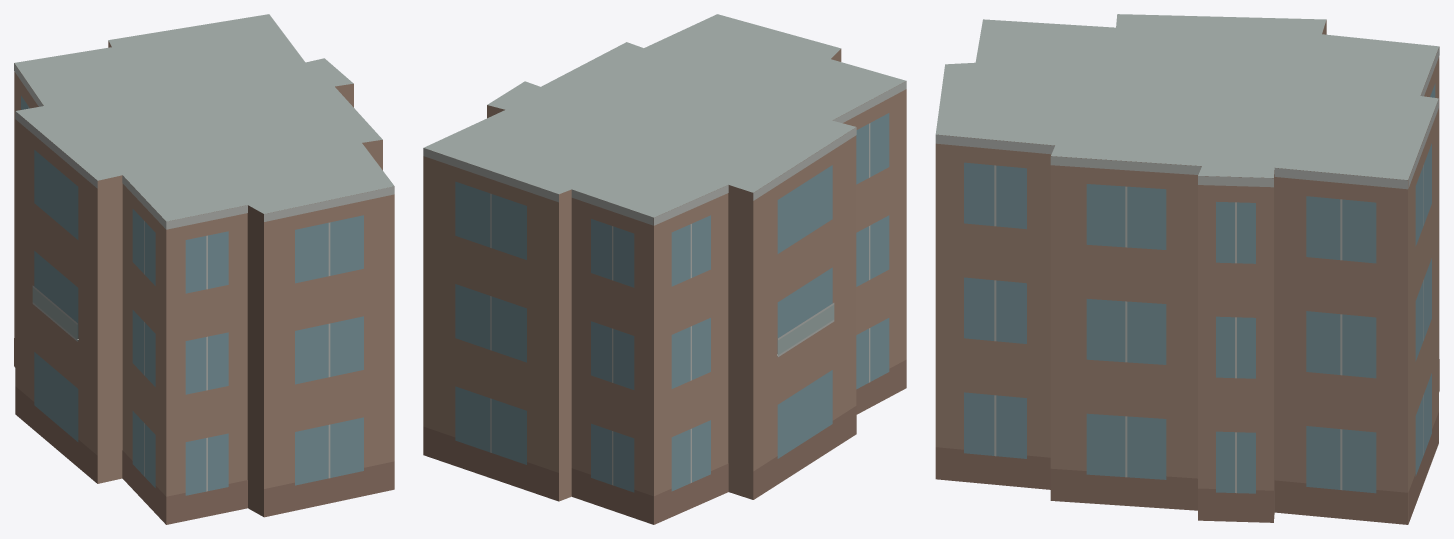
Rendered from survey-upis-32686172.glb.
The picture shows the model from 3 angles, left to right: view 1: azimuth 30°, elevation 25°; view 2: azimuth 150°, elevation 25°; view 3: azimuth 270°, elevation 25°; orthographic projection. The views are drawn at different scales.
Parts seen in each view (by area): view 1: survey-upis-32686172.tmp; view 2: survey-upis-32686172.tmp; view 3: survey-upis-32686172.tmp.
Part boxes in pixels (bbox=[...]): survey-upis-32686172.tmp: bbox=[14, 14, 394, 524]; survey-upis-32686172.tmp: bbox=[423, 14, 906, 524]; survey-upis-32686172.tmp: bbox=[935, 14, 1439, 524].
Bounding box in the file's own units: 9.47 × 9.15 × 12.13.
